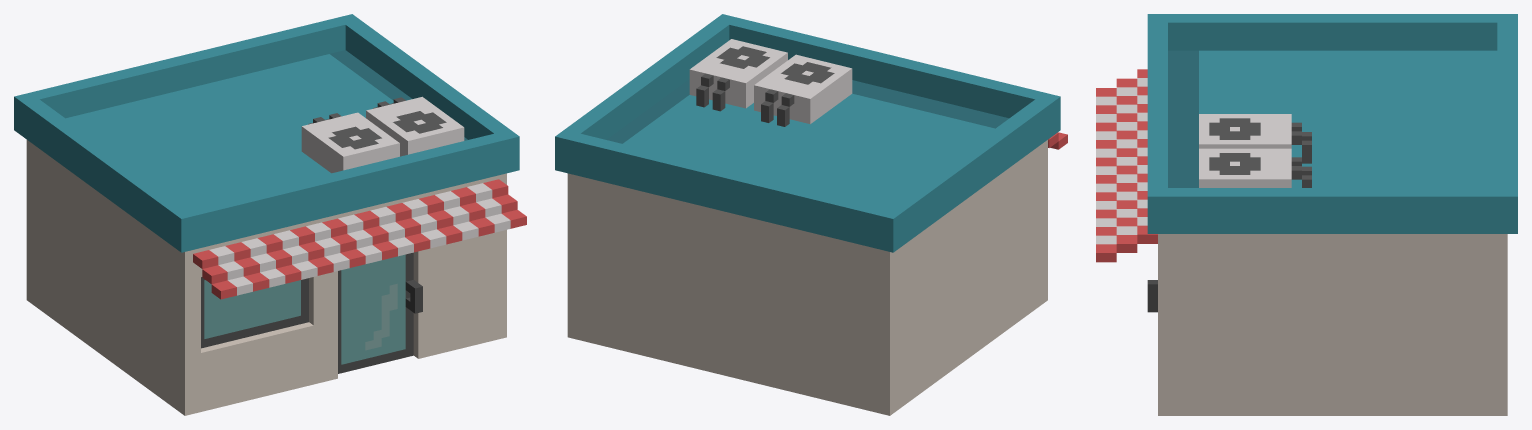
File: store_blue.obj
3 views of the same model, side by side, from view 1: azimuth 30°, elevation 25°; view 2: azimuth 150°, elevation 25°; view 3: azimuth 270°, elevation 25° (orthographic). The views are drawn at different scales.
Bounding box in the file's own units: 4.2 × 2.4 × 4.1.
Materials: 1 (1 with a texture image).
